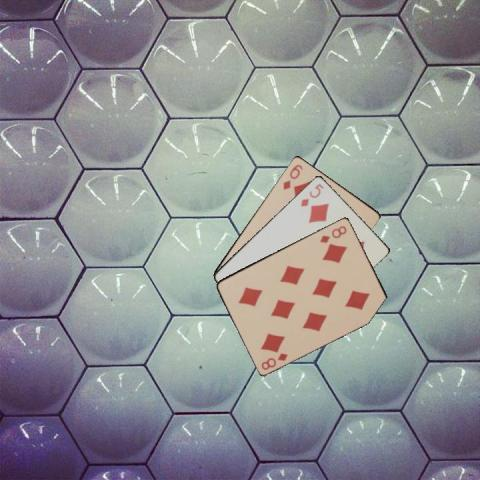5d: (298, 180, 326, 208)
6d: (280, 161, 304, 191)
8d: (317, 222, 348, 245), (258, 350, 289, 371)
